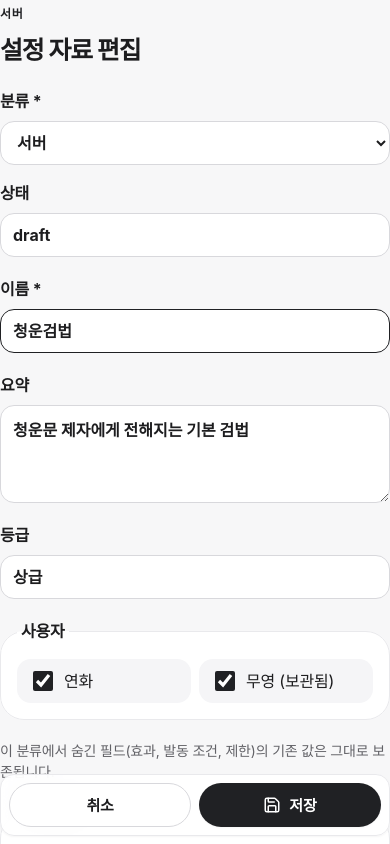
Test: Task 11 Setting pages › preserves archived owners and hidden field values when editing
Expected: the heading "설정 자료 편집" is shown, [0,35,141,65]
Expected: the checkbox labelled "무영 (보관됨)" is checked, [215,671,235,691]
Replace the text in the field labelled "등급" with "최상급": (195, 577) [0,555,389,599]
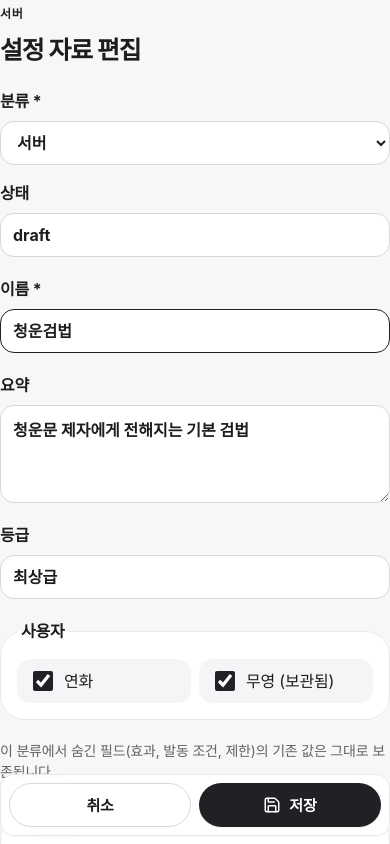
Click the button "저장": click(290, 805) [199,783,381,827]
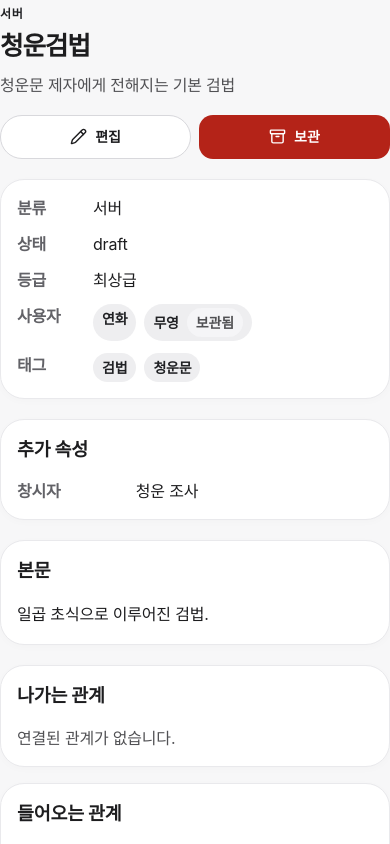
Expected: the text "보관됨" is shown, [187,308,243,336]
Now the heading "청운검법" is shown, box [0,30,90,61]
